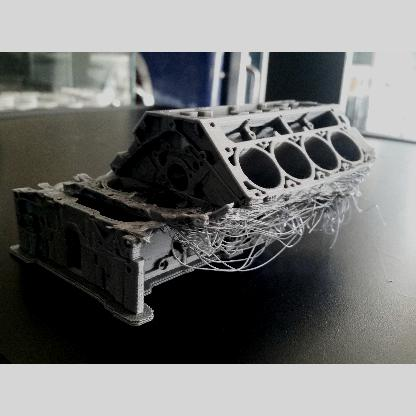fail: (178, 204, 356, 270)
